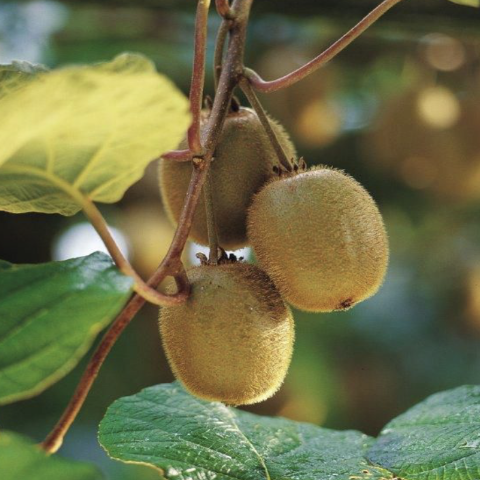kiwi: (147, 246, 317, 408), (160, 100, 310, 262), (242, 162, 400, 314)
